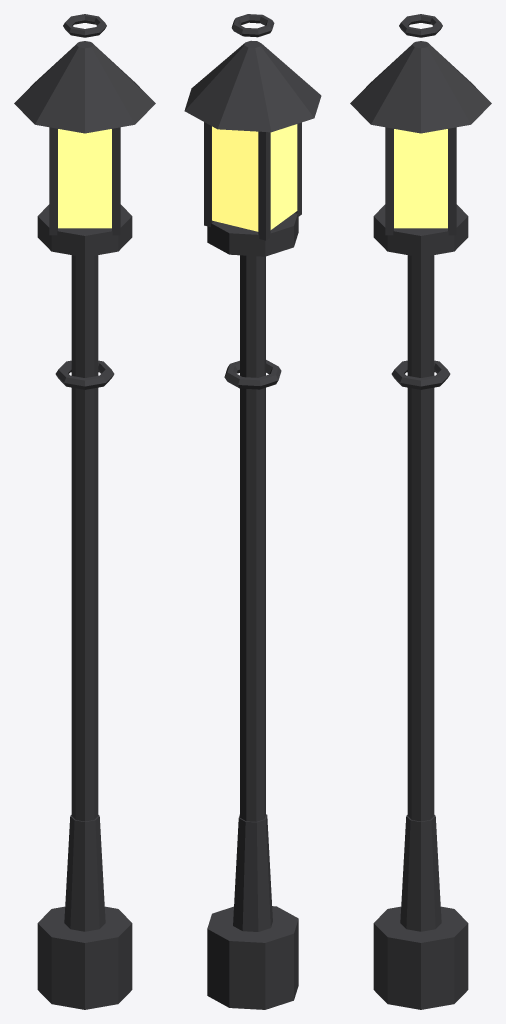
The model's file is lantern_post.glb.
The picture shows the model from 3 angles, left to right: view 1: azimuth 90°, elevation 25°; view 2: azimuth 150°, elevation 25°; view 3: azimuth 270°, elevation 25°; orthographic projection.
Parts seen in each view (by area): view 1: lantern_post; view 2: lantern_post; view 3: lantern_post.
Part boxes in pixels (<box>): lantern_post: <box>14,14,155,1009</box>; lantern_post: <box>184,14,321,1009</box>; lantern_post: <box>350,14,491,1009</box>.
Bounding box in the file's own units: 0.48 × 3.61 × 0.48.
